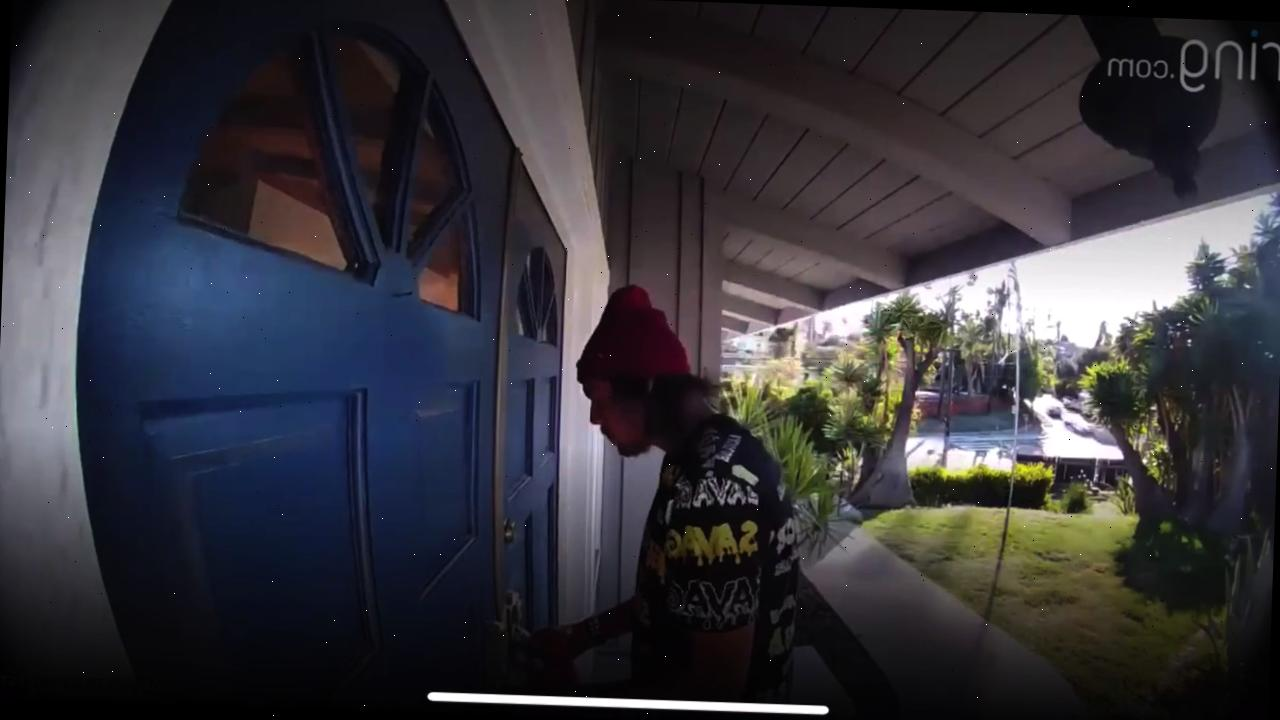suspicion: (491, 289, 820, 720)
